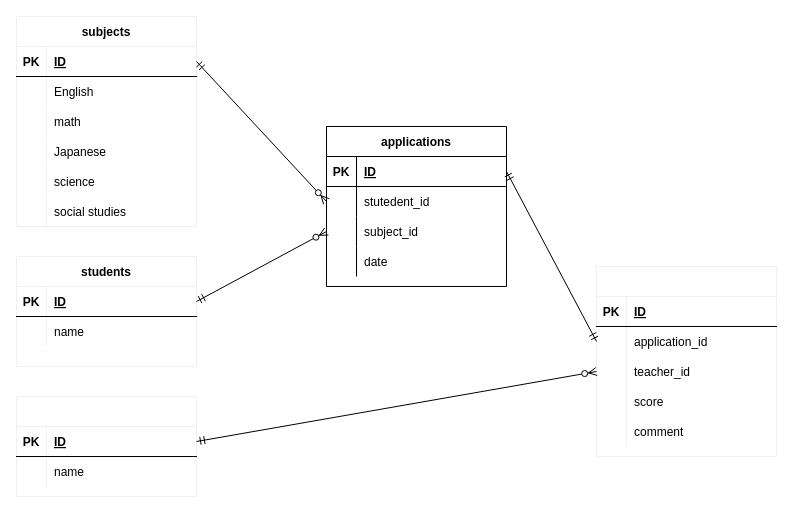
Some shapes in this 793 by 513 pixel diagram are drawn without their labels. The box of each missing label's shape, as (x1, y1, x2, y2) in pixels:
results: (596, 266, 776, 456)
teachers: (16, 396, 196, 496)
